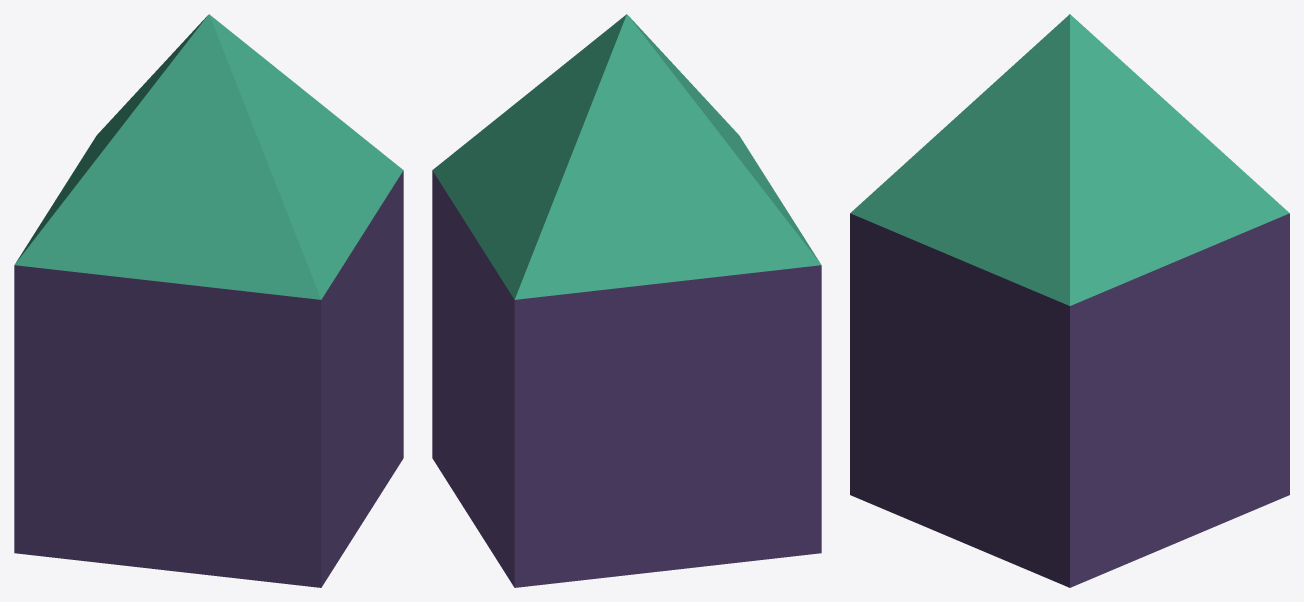
File: J8.PiramideCuadradaElongada.gltf
3 views of the same model, side by side, from view 1: azimuth 30°, elevation 25°; view 2: azimuth 150°, elevation 25°; view 3: azimuth 270°, elevation 25° (orthographic). The views are drawn at different scales.
Parts seen in each view (by area): view 1: J8.PiramideCuadradaElongada; view 2: J8.PiramideCuadradaElongada; view 3: J8.PiramideCuadradaElongada.
Part boxes in pixels (x1,y1,x2,y2): J8.PiramideCuadradaElongada: [14, 14, 403, 587]; J8.PiramideCuadradaElongada: [432, 14, 821, 587]; J8.PiramideCuadradaElongada: [850, 14, 1289, 587].
Bounding box in the file's own units: 11.72 × 14.14 × 11.72.
